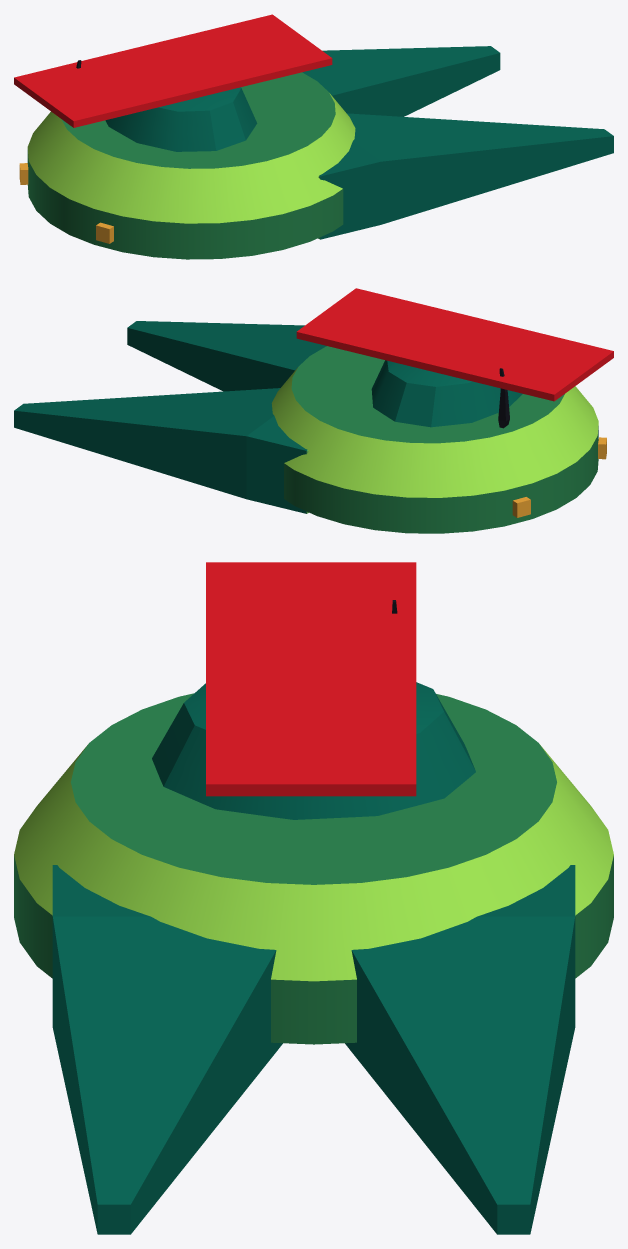
The model's file is Nave_espcaial.fbx.
3 renders of one model, top to bottom at view 1: azimuth 30°, elevation 25°; view 2: azimuth 150°, elevation 25°; view 3: azimuth 270°, elevation 25°, orthographic. The views are drawn at different scales.
Visible parts, largest first — view 1: Circle, Cube.095, Cube.094; view 2: Circle, Cube.095, Cube.094; view 3: Circle, Cube.094, Cube.095.
Part boxes in pixels (x1,y1,x2,y2): Circle: [19, 46, 613, 259]; Cube.095: [14, 46, 202, 127]; Cube.094: [143, 14, 332, 96]; Circle: [14, 321, 606, 533]; Cube.095: [425, 319, 613, 401]; Cube.094: [296, 288, 484, 369]; Circle: [14, 600, 613, 1234]; Cube.094: [206, 673, 416, 796]; Cube.095: [206, 562, 416, 673].
Bounding box in the file's own units: 2217 × 595 × 1285.
2 materials, 1 textured.
